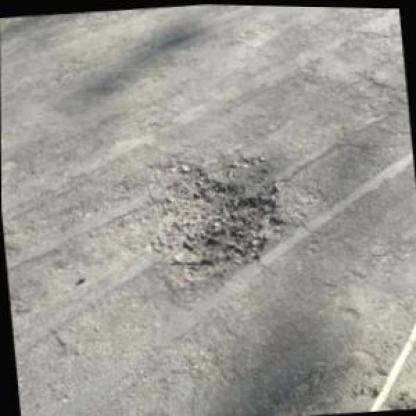pothole: (147, 151, 286, 284)
